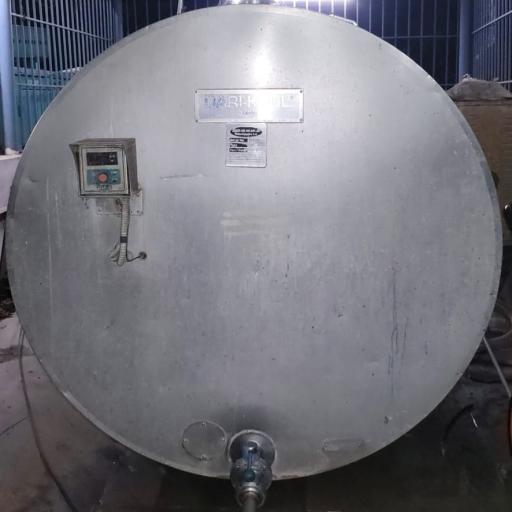silo: (3, 6, 505, 483)
